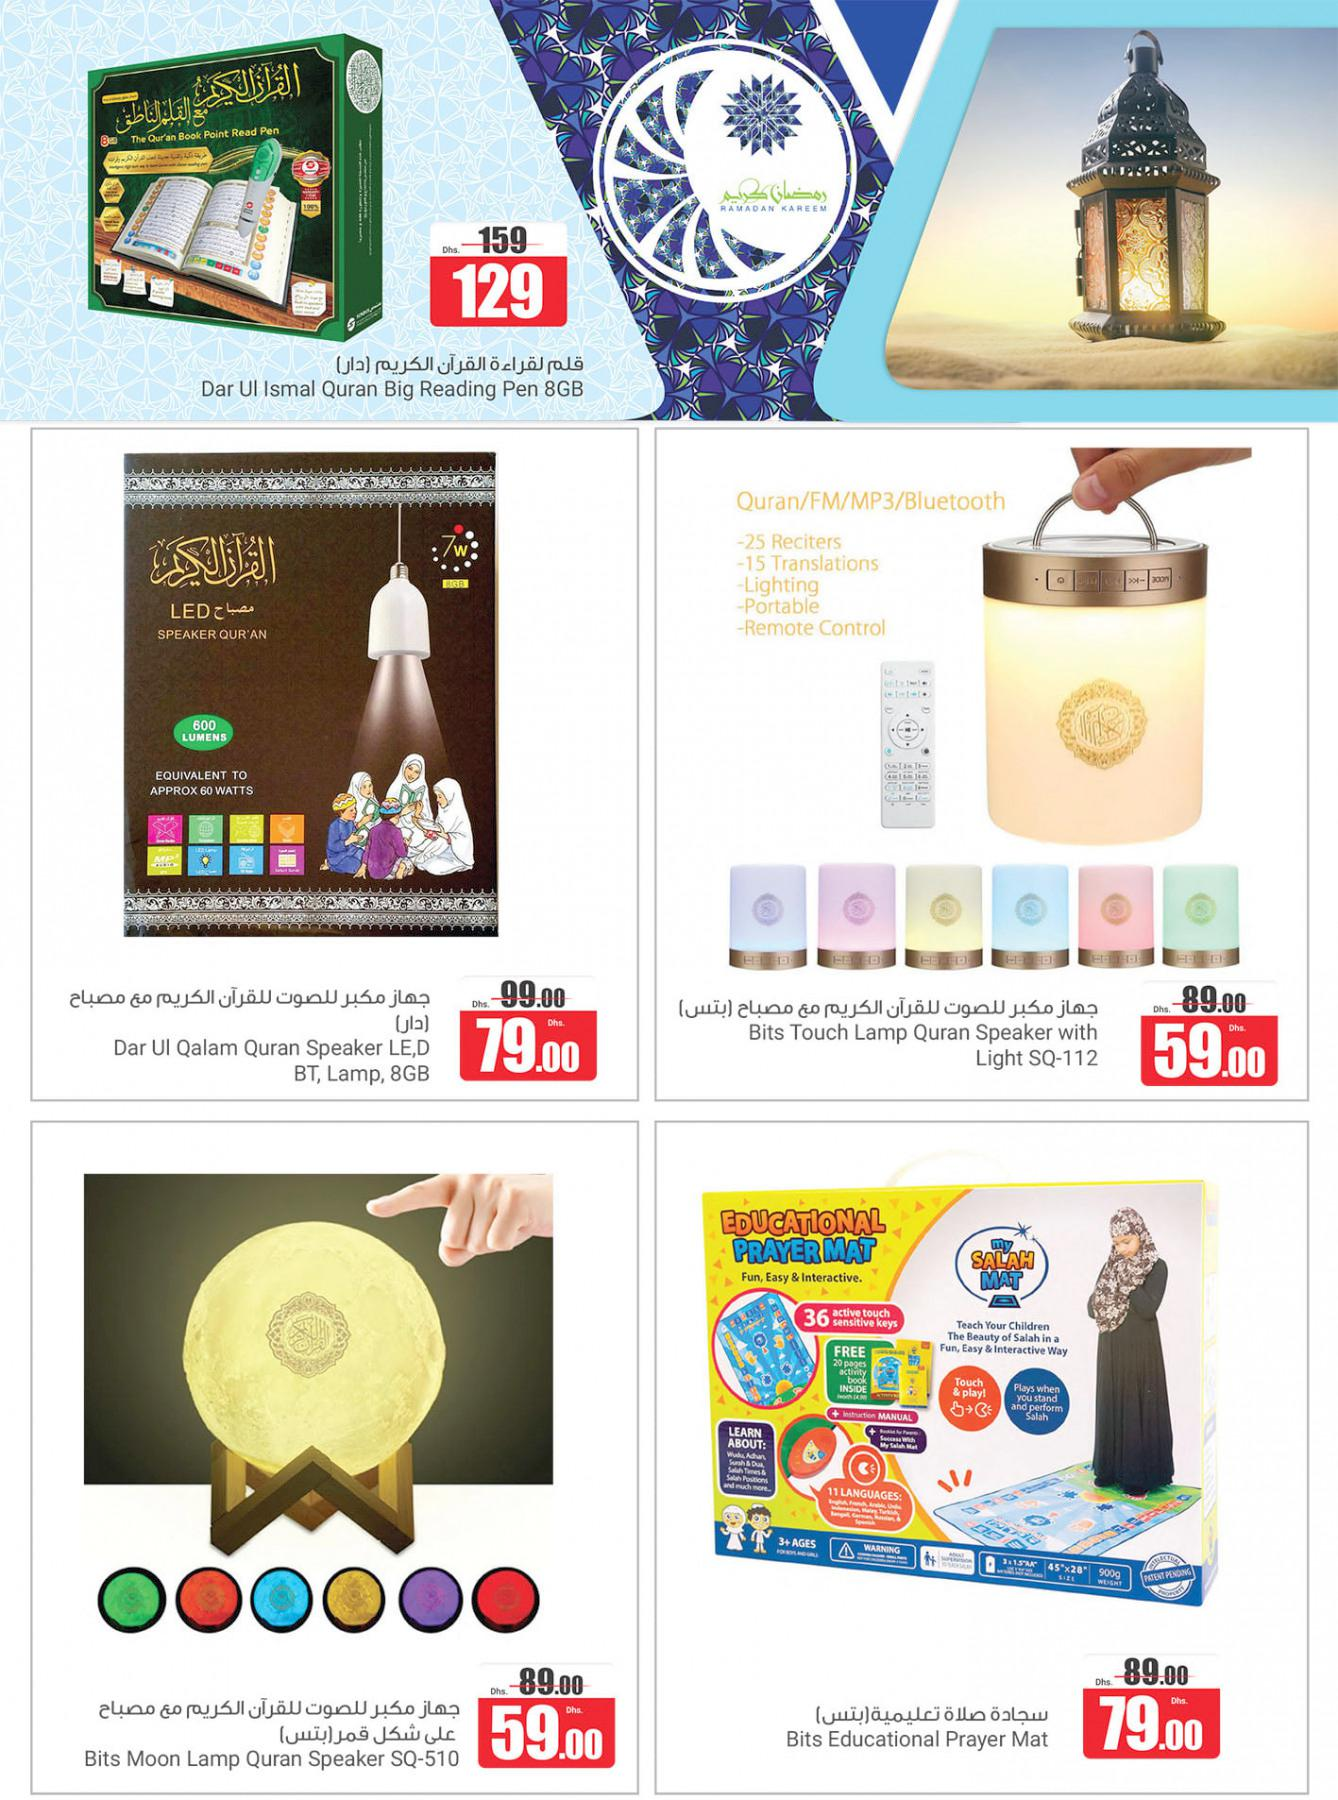text: (666, 984, 1110, 1082), (63, 979, 441, 1090), (74, 1685, 469, 1778), (193, 344, 595, 410), (774, 1695, 1058, 1761)
